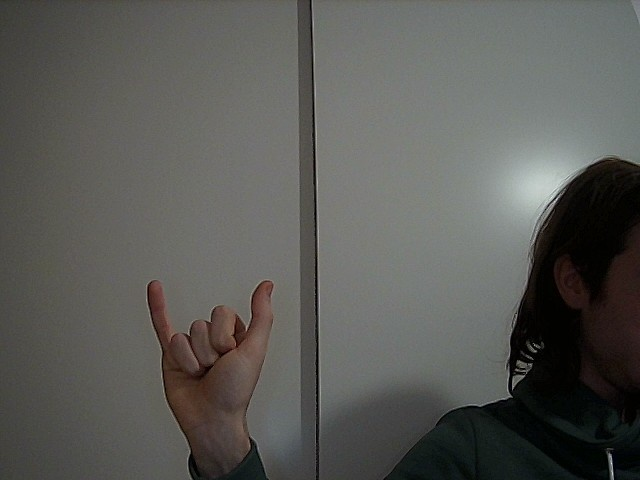y: (133, 264, 285, 409)
